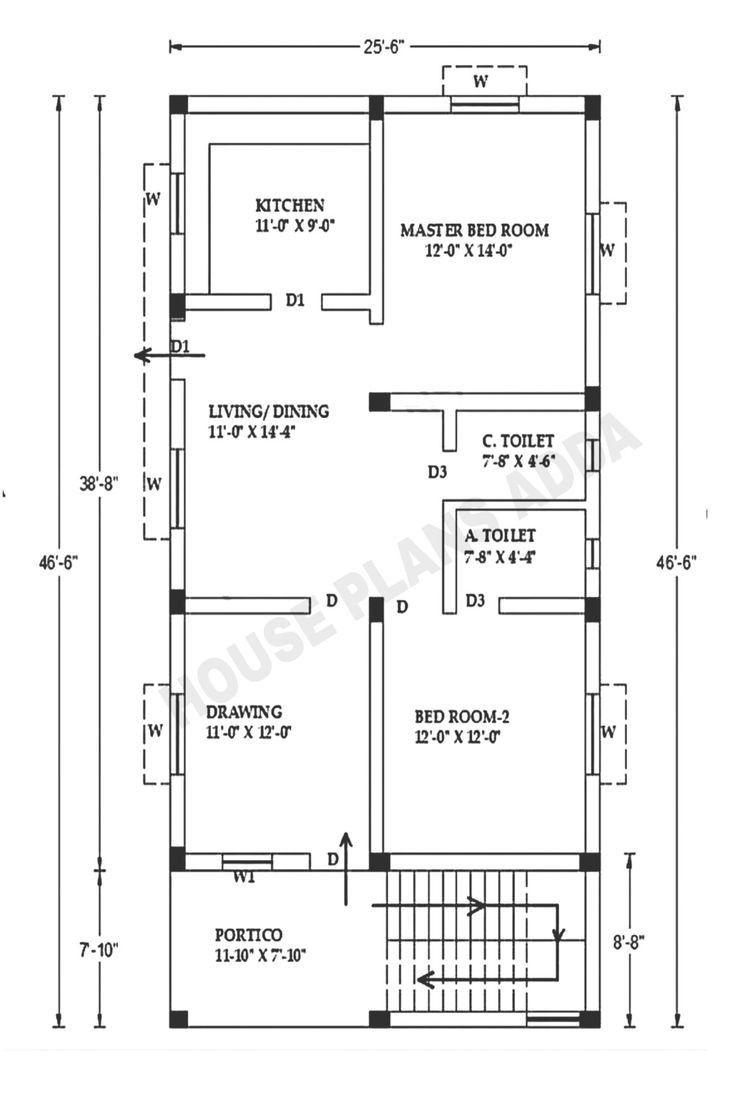Blueprint: (160, 83, 611, 1034)
wall: (387, 388, 589, 414), (185, 93, 374, 120), (366, 618, 387, 856), (387, 849, 582, 873), (367, 115, 385, 328), (386, 1008, 531, 1031), (182, 595, 315, 618), (583, 868, 602, 1014), (440, 496, 589, 513), (183, 290, 274, 315), (440, 507, 460, 616), (582, 117, 603, 217), (497, 594, 588, 617), (165, 374, 190, 454), (166, 611, 189, 697), (381, 92, 456, 117), (166, 522, 190, 594), (582, 620, 604, 698), (583, 771, 603, 854), (584, 290, 601, 386), (165, 230, 189, 297), (167, 772, 187, 851), (519, 93, 588, 115), (583, 469, 604, 541), (167, 111, 189, 176), (320, 289, 376, 314), (269, 848, 313, 874), (439, 405, 462, 453), (182, 850, 226, 873), (582, 567, 604, 599), (582, 409, 602, 442)
